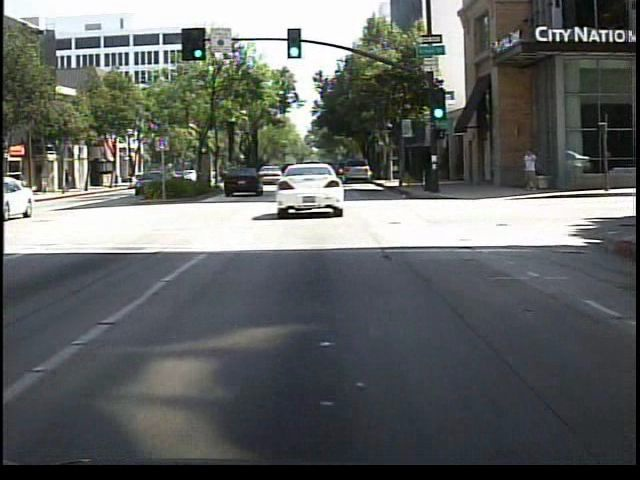person: (519, 145, 542, 196)
